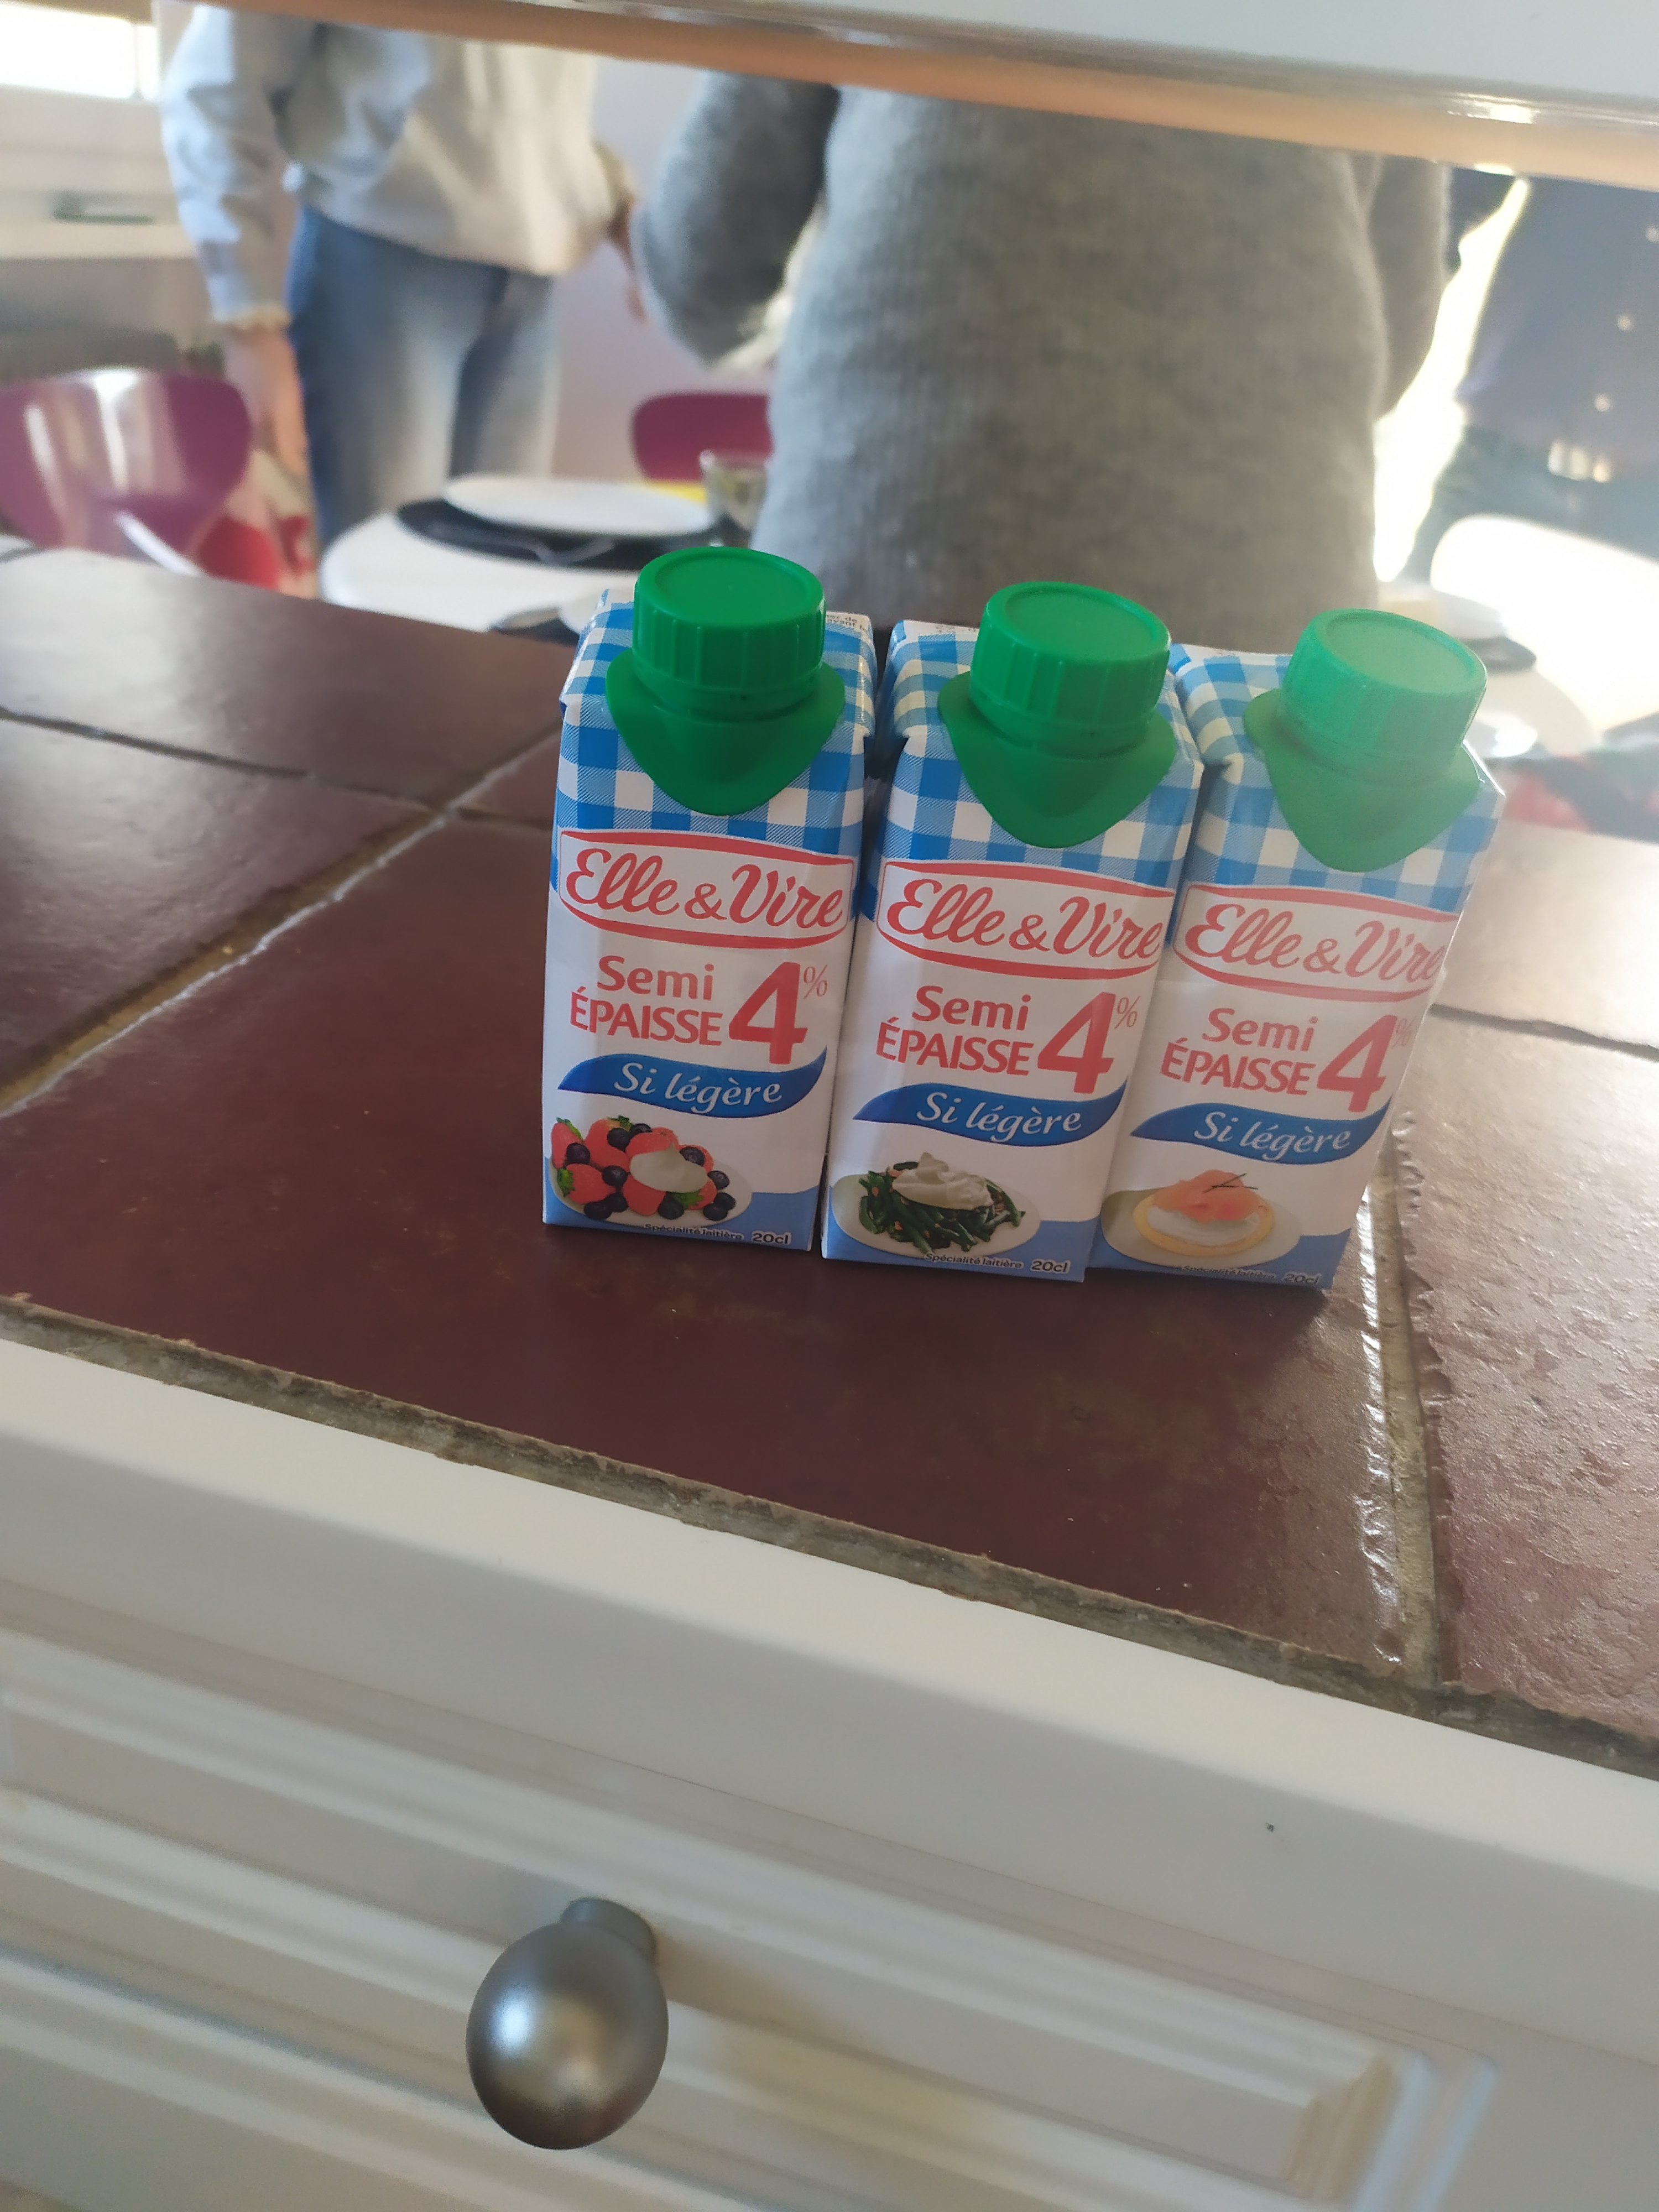cream: (1093, 604, 1499, 1292), (828, 577, 1201, 1299), (542, 542, 873, 1268)
